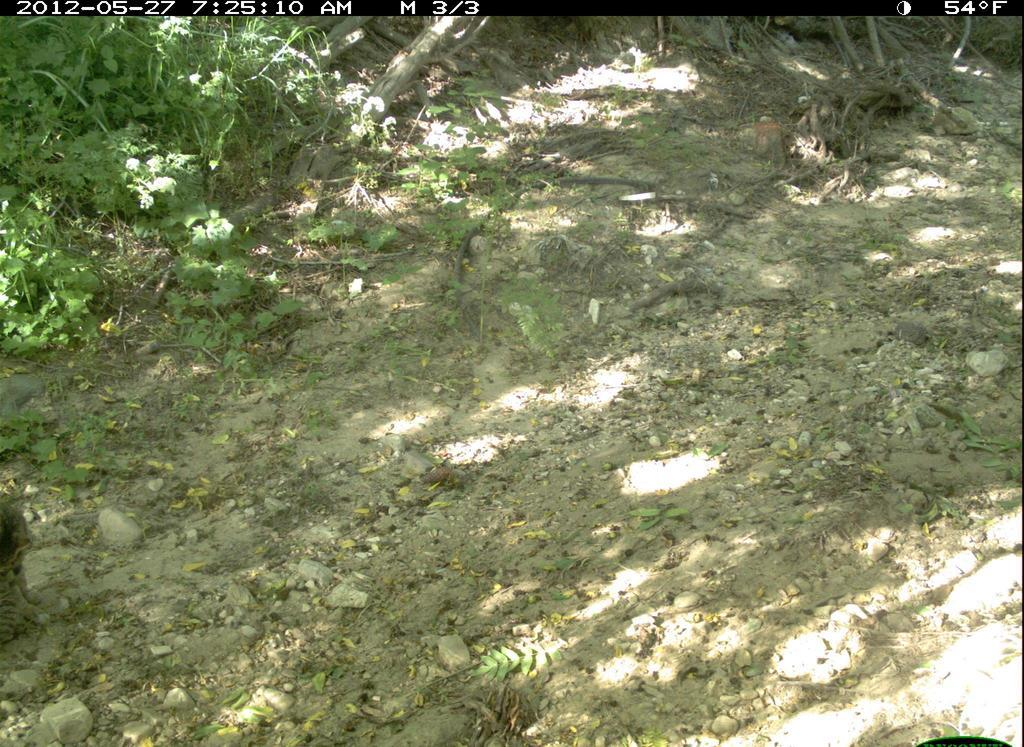cat: (3, 487, 49, 648)
